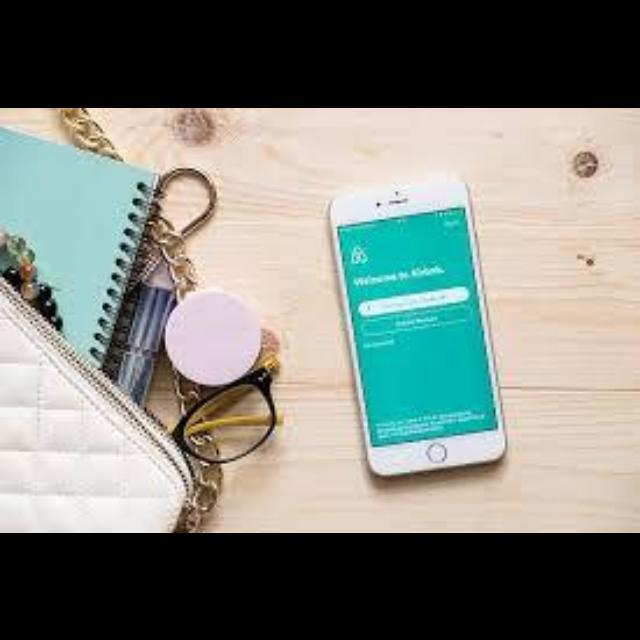Phone: (331, 172, 507, 480)
